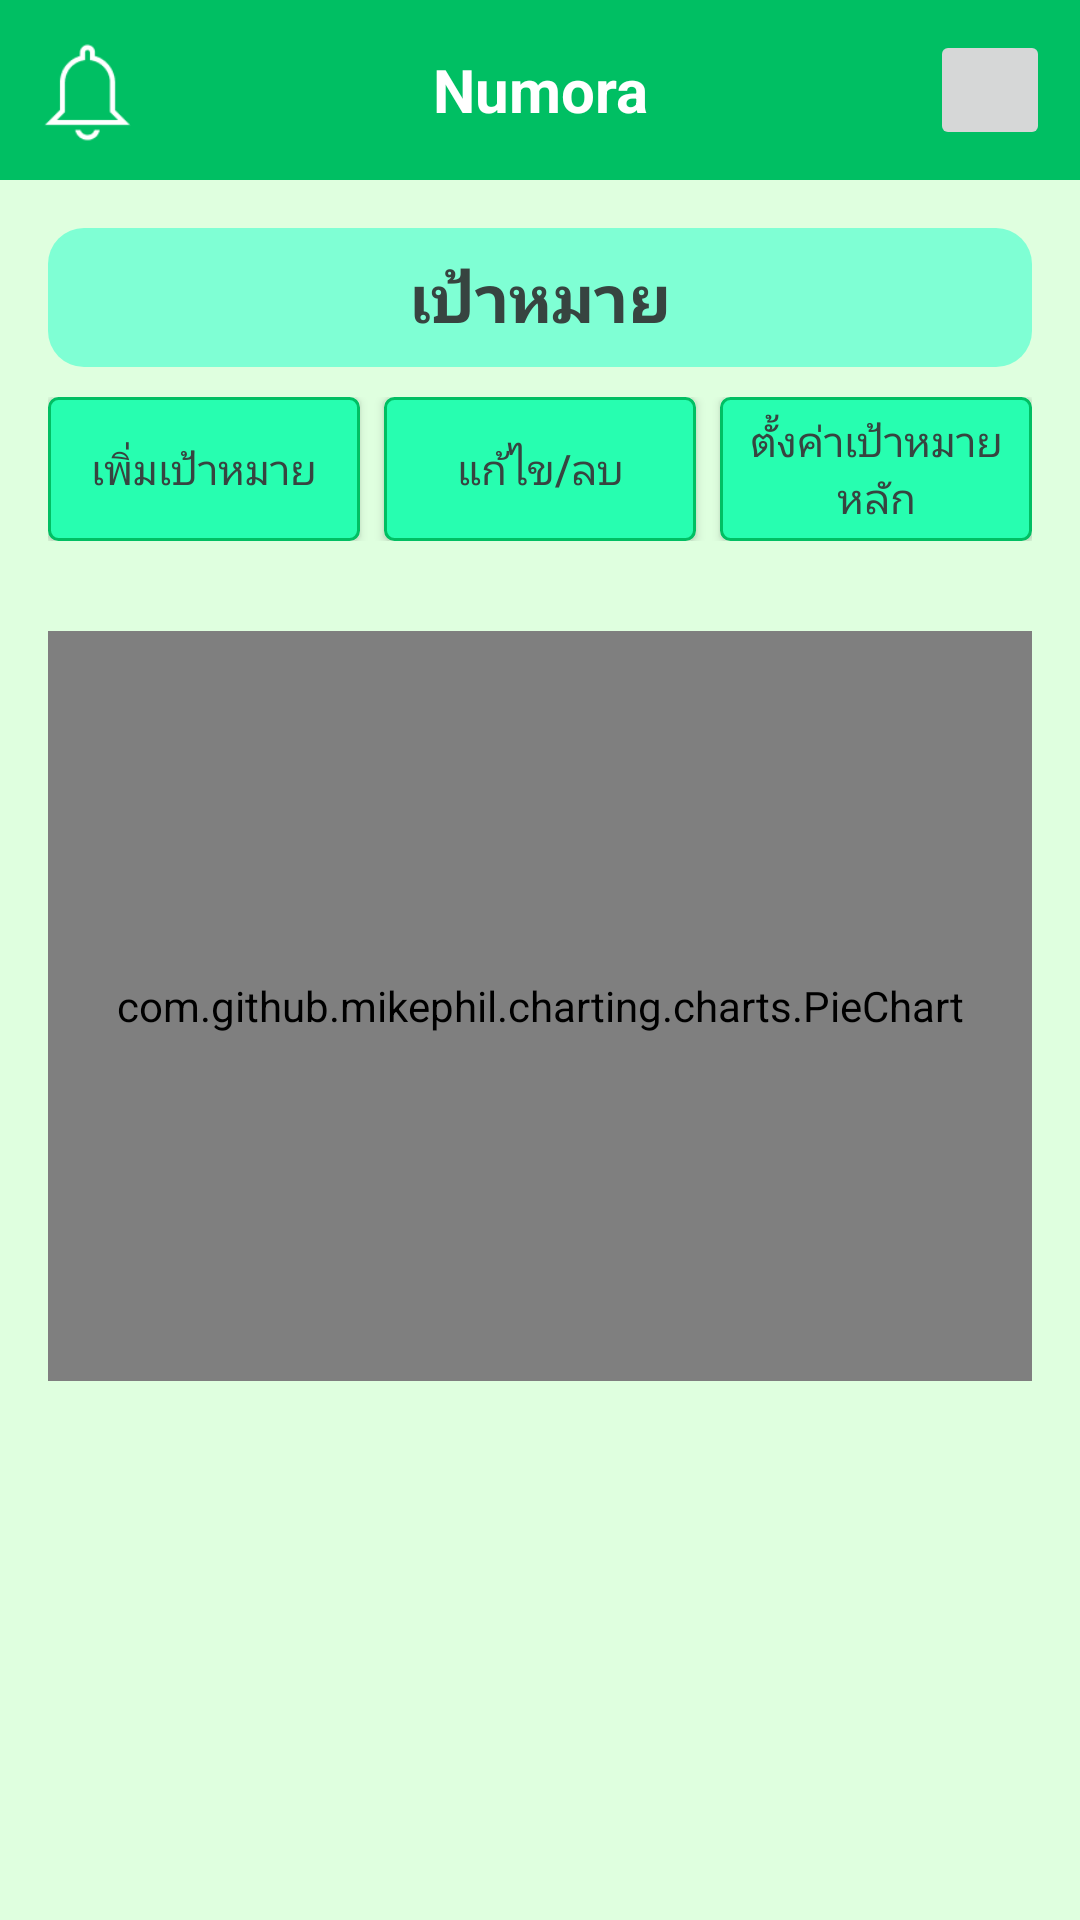

Screen size 1080px x 1920px. Icon name, then its center in pixels as [x,y]:
notifications: [87,92]
